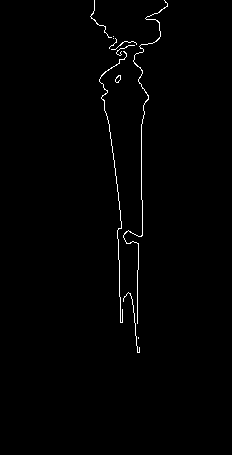fracture: (79, 201, 180, 262)
